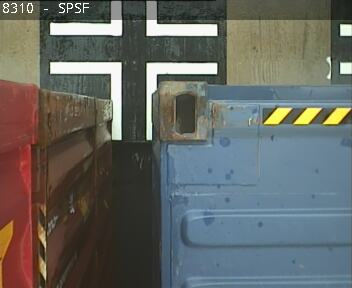groundmarker_1: (51, 60, 217, 141), (50, 1, 217, 36)
